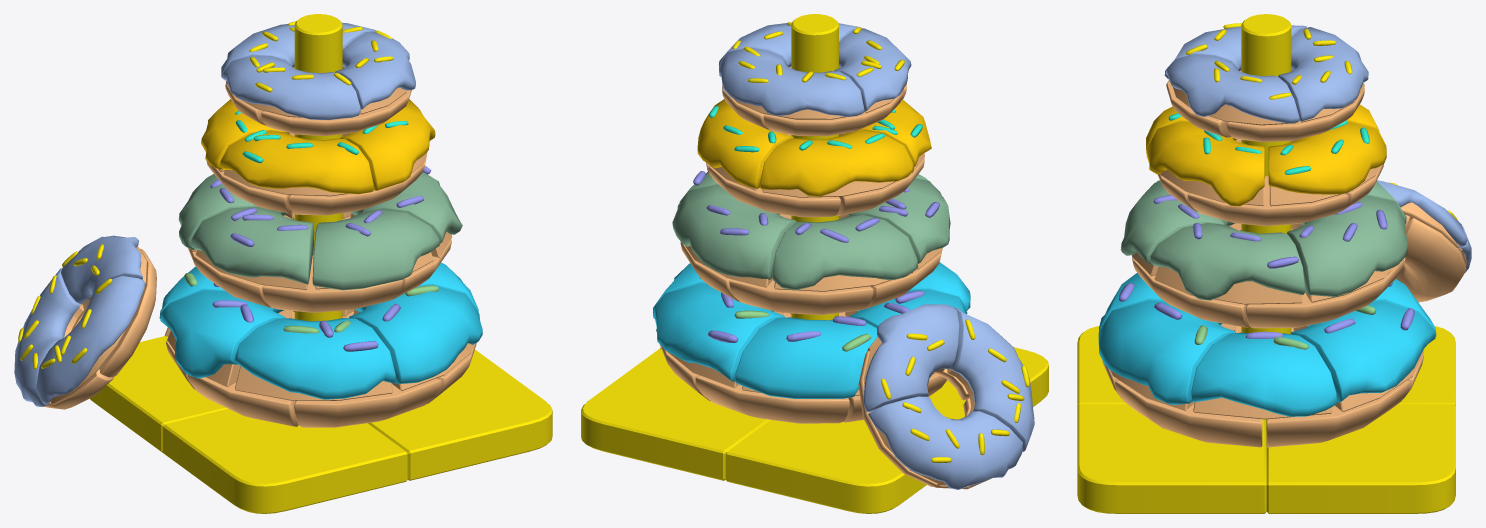
The model's file is level_176.fbx.
3 views of the same model, side by side, from view 1: azimuth 30°, elevation 25°; view 2: azimuth 150°, elevation 25°; view 3: azimuth 270°, elevation 25° (orthographic). The views are drawn at different scales.
Visible parts, largest first — view 1: Cube_L6_4, Cube_L6, Cube_L4_7, Cube_L4_4, Cube_L3_4, Cube_L2_5, Cube_L3_8, Cube_L6_3, Cube_L4_11, Cube_L5_4, Cube_L1_5, Cube_L1_1 (+20 smaller); view 2: Cube_L6_1, Cube_L6_3, Cube_L4_8, Cube_L5_3, Cube_L3_7, Cube_L2_6, Cube_L3_3, Cube_L4_3, Cube_L5, Cube_L1_2, Cube_L5_4, Cube_L2_2 (+20 smaller); view 3: Cube_L6_1, Cube_L6, Cube_L4, Cube_L3, Cube_L4_4, Cube_L4_3, Cube_L3_3, Cube_L2_2, Cube_L2_1, Cube_L1_1, Cube_L1_2, Cube_L6_2 (+18 smaller).
Boxes of the visible parts, box(x1,y1,x2,y2) form: Cube_L6_4: box(163, 409, 407, 513); Cube_L6: box(367, 349, 552, 480); Cube_L4_7: box(234, 318, 395, 400); Cube_L4_4: box(349, 285, 482, 390); Cube_L3_4: box(312, 209, 439, 290); Cube_L2_5: box(220, 130, 373, 196); Cube_L3_8: box(191, 206, 314, 289); Cube_L6_3: box(90, 336, 227, 452); Cube_L4_11: box(160, 290, 285, 386); Cube_L5_4: box(36, 276, 144, 404); Cube_L1_5: box(222, 55, 360, 120); Cube_L1_1: box(335, 30, 415, 114); Cube_L6_1: box(581, 349, 770, 480); Cube_L6_3: box(725, 420, 926, 513); Cube_L4_8: box(735, 316, 877, 398); Cube_L5_3: box(868, 396, 1022, 489); Cube_L3_7: box(772, 215, 918, 291); Cube_L2_6: box(760, 130, 913, 197); Cube_L3_3: box(672, 185, 796, 287); Cube_L4_3: box(653, 283, 784, 387); Cube_L5: box(863, 304, 959, 412); Cube_L1_2: box(719, 46, 864, 119); Cube_L5_4: box(947, 307, 1034, 452); Cube_L2_2: box(697, 99, 793, 190); Cube_L6_1: box(1266, 404, 1455, 513); Cube_L6: box(1077, 404, 1266, 513); Cube_L4: box(1191, 331, 1336, 419); Cube_L3: box(1150, 222, 1305, 304); Cube_L4_4: box(1098, 300, 1235, 410); Cube_L4_3: box(1291, 301, 1435, 411); Cube_L3_3: box(1286, 195, 1407, 302); Cube_L2_2: box(1268, 120, 1386, 206); Cube_L2_1: box(1146, 121, 1264, 206); Cube_L1_1: box(1165, 54, 1299, 125); Cube_L1_2: box(1278, 27, 1368, 122); Cube_L6_2: box(1241, 14, 1291, 334).
Size of the model in its own units: 14.75 by 13.86 by 11.92.
